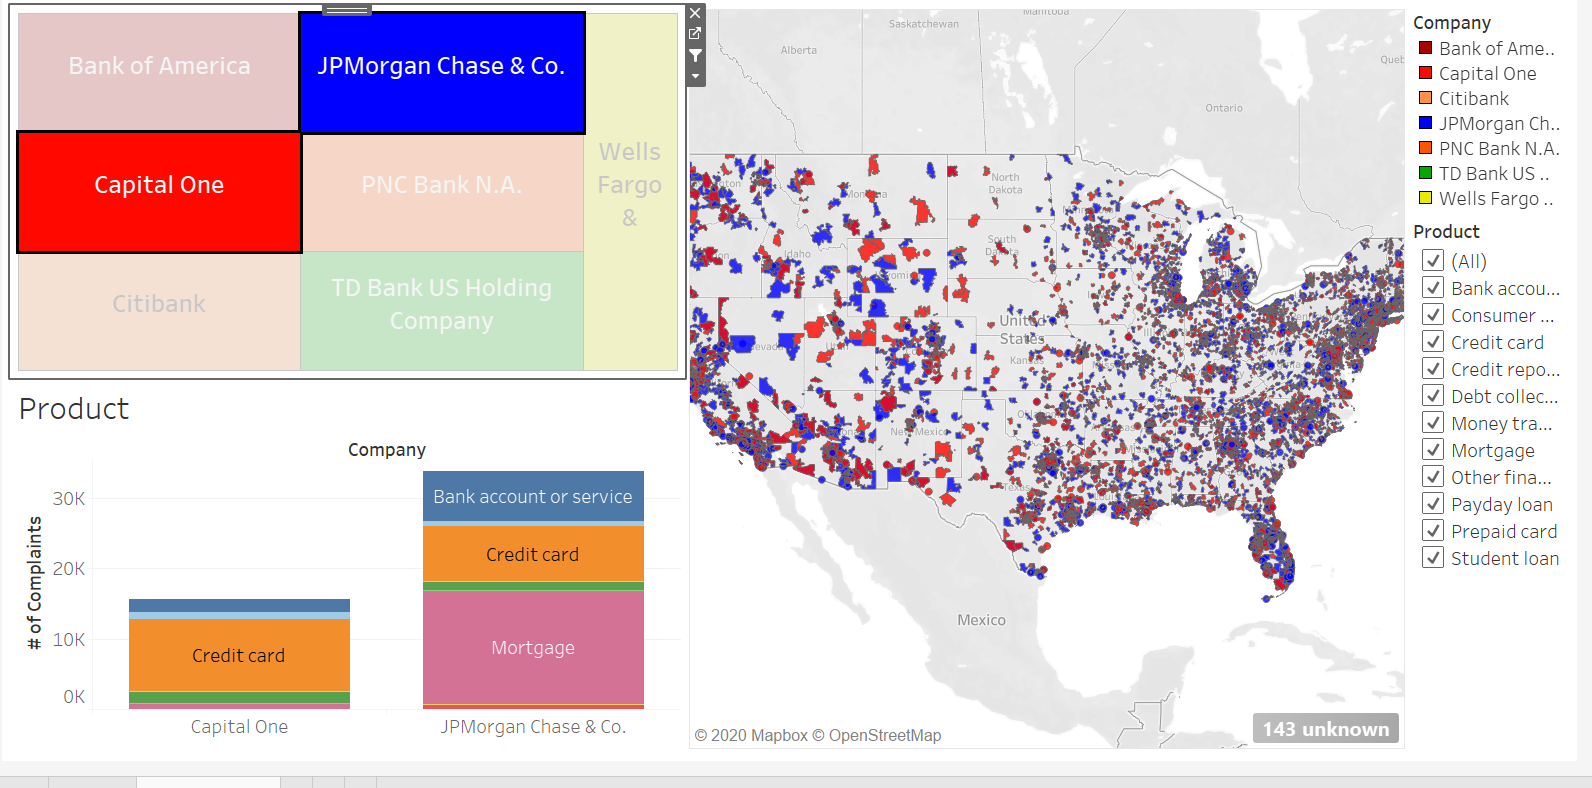

This screenshot's page, from the dashboard's own definition file:
{"tool":"tableau","page":{"name":"Dashboard 1","canvas":[1000,1000],"units":"permille","ordinal":0},"visuals":[{"type":"worksheet","title":"Banks","mark":"Automatic","box":[5.1,10.5,428.6,488.2]},{"type":"worksheet","title":"State map","mark":"Multipolygon","box":[433.7,10.5,459.7,979.1]},{"type":"legend","title":"Banks","param":"[federated.0g799zd1b8lb1p19bwwzn196hffh].[none:Company:nk]","box":[893.3,10.5,101.6,273.6]},{"type":"filter","title":"Product","param":"[federated.0g799zd1b8lb1p19bwwzn196hffh].[none:Product:nk]","box":[893.3,284,101.6,476.4]},{"type":"worksheet","title":"Product","mark":"Automatic","rows":["complaint_id"],"cols":["Company"],"box":[5.1,498.7,428.6,490.8]}]}

Visuals, with their boxes on the dashboard's canvas, which has no fixed pixel size, in thousandths of its width and height (x1, y1, x2, y2). These are canvas units, not pixel positions in the 1592x788 screenshot, which may show the page scaled, cropped or inside an application window:
"Banks" worksheet: bbox=(5, 10, 434, 499)
"State map" worksheet (Multipolygon marks): bbox=(434, 10, 893, 990)
"Banks" legend: bbox=(893, 10, 995, 284)
"Product" filter: bbox=(893, 284, 995, 760)
"Product" worksheet: bbox=(5, 499, 434, 990)
